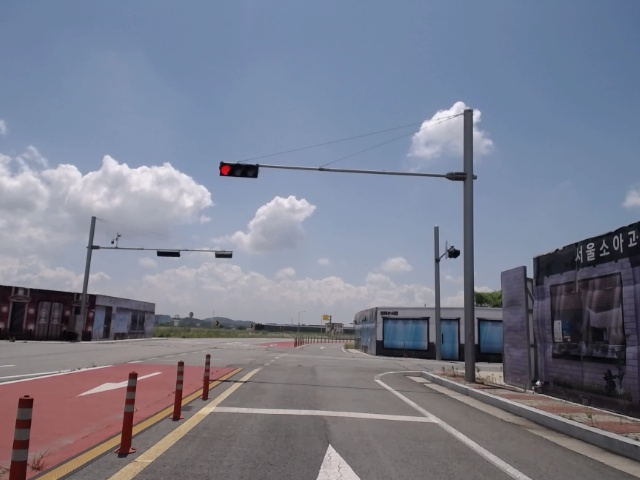red_3: (218, 162, 261, 180)
